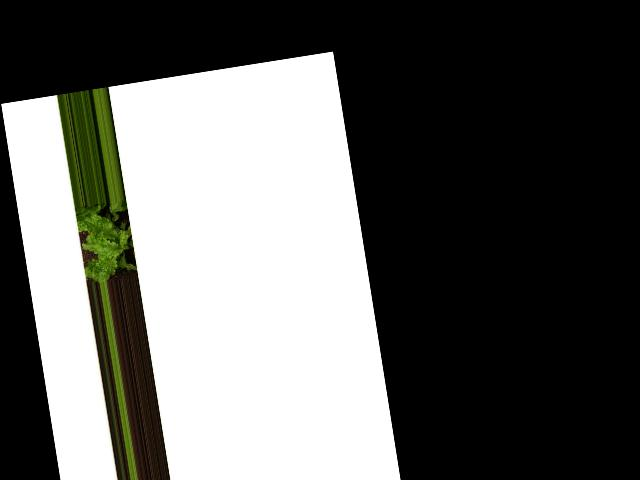lettuce: (77, 198, 141, 283)
